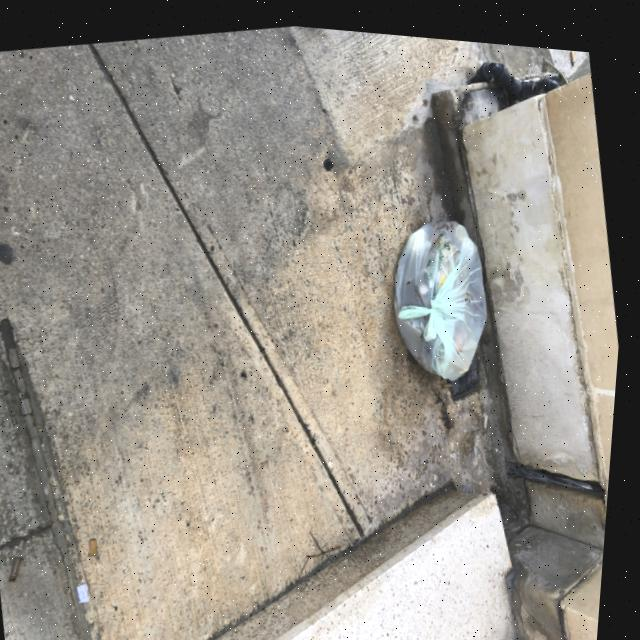Organic Waste -White Bag-: (377, 198, 515, 387)
